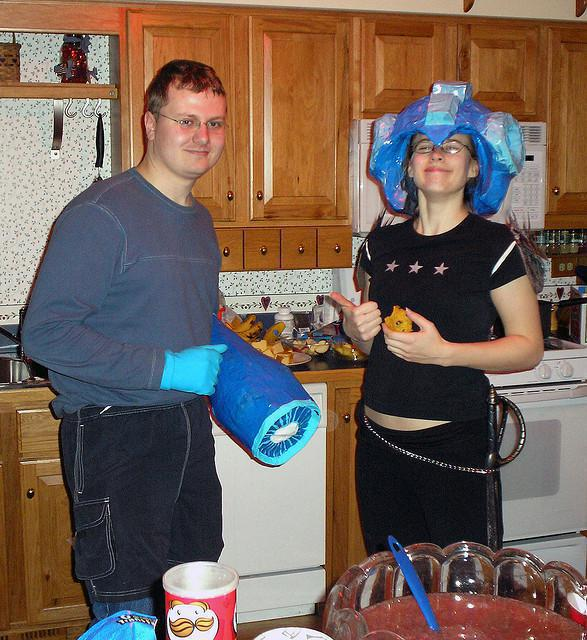Lavaplatos: (0, 296, 139, 396)
